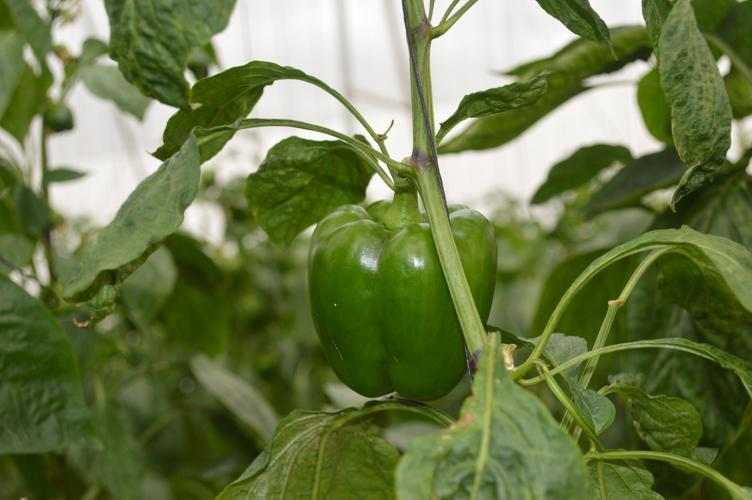BellPepper: (296, 183, 522, 409)
